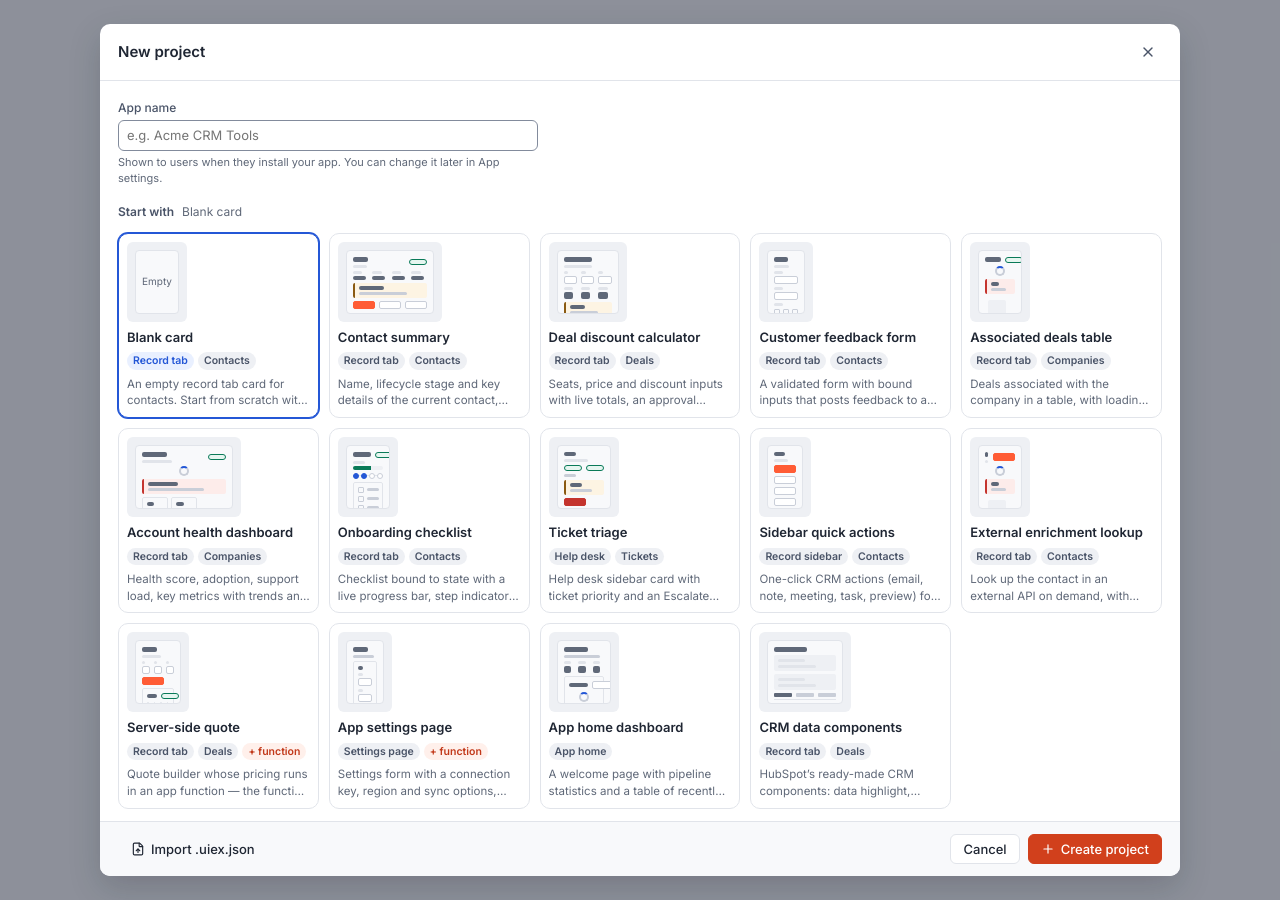
Test: <NewProjectDialog> › requires an app name
Click the button "Create project": (1095, 849) [1028,834,1162,864]
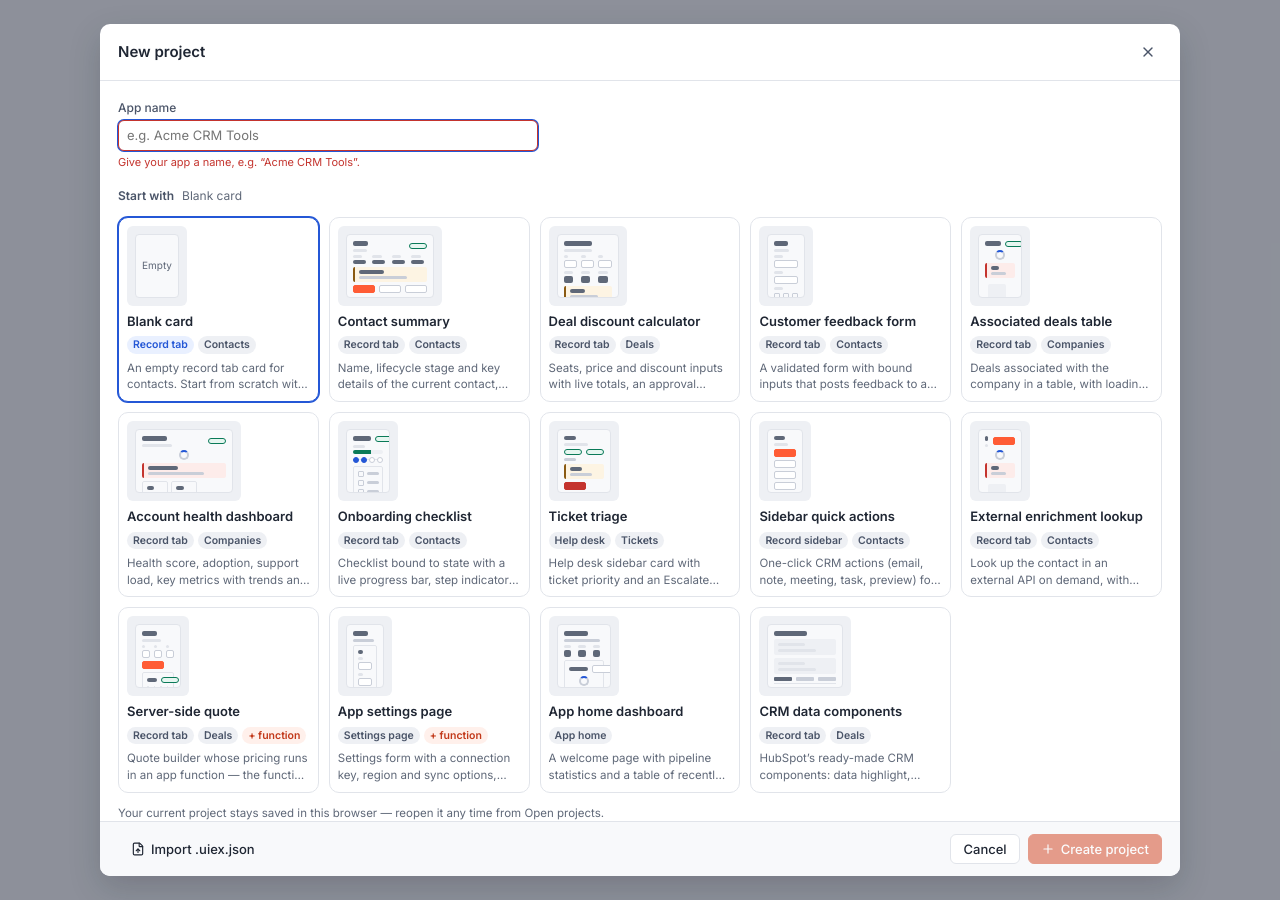
Expected: the text "Give your app a name, e.g. “Acme CRM Tools”." is shown, [118,155,360,169]
